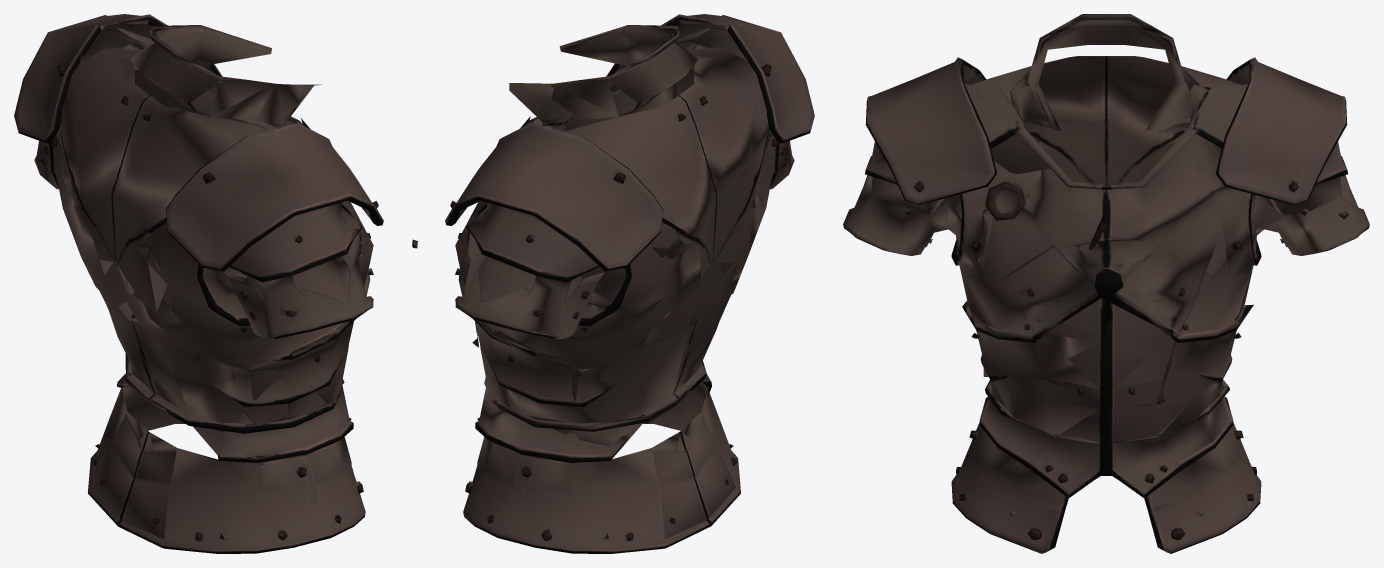
File: gatewatch_surplus.glb
3 views of the same model, side by side, from view 1: azimuth 30°, elevation 25°; view 2: azimuth 150°, elevation 25°; view 3: azimuth 270°, elevation 25° (orthographic). The views are drawn at different scales.
Visible parts, largest first — view 1: base_model_path; view 2: base_model_path; view 3: base_model_path.
Part boxes in pixels (<box>): base_model_path: <box>14,14,383,553</box>; base_model_path: <box>412,14,814,553</box>; base_model_path: <box>843,14,1369,553</box>.
Size of the model in its own units: 0.4971 by 0.9648 by 0.9961.
Materials: 1 (1 with a texture image).
